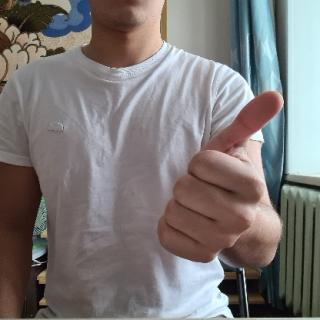ALIF: (152, 82, 288, 264)
